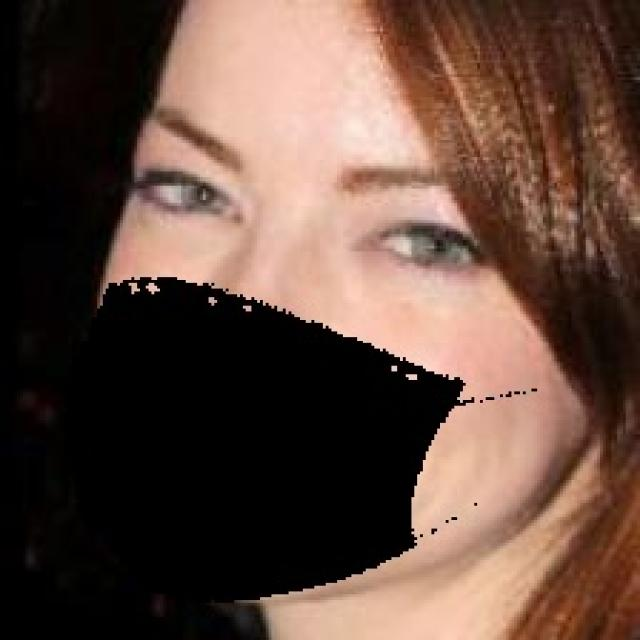mask: (73, 239, 510, 618)
